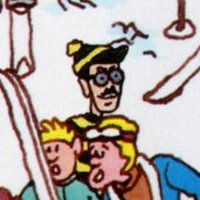odlaw: (80, 43, 121, 112)
